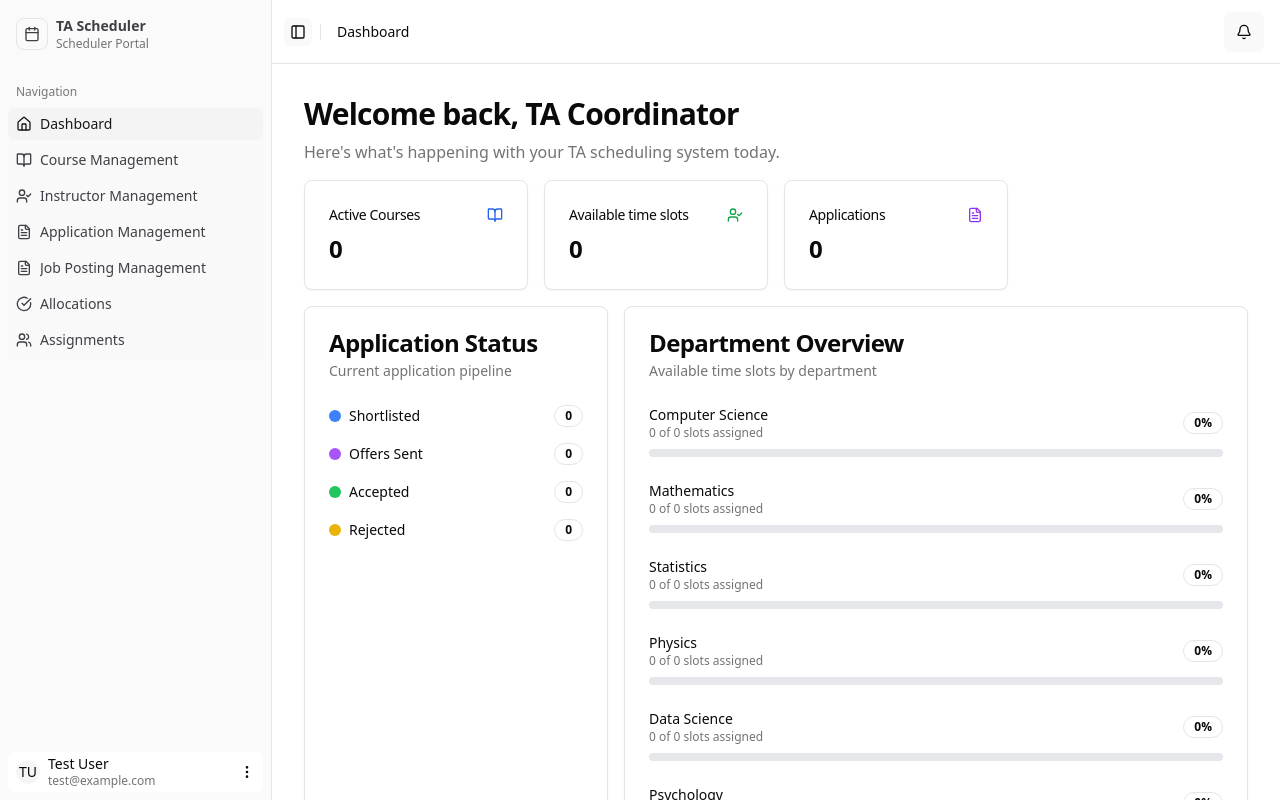
Test case: Logout › logs out scheduler who is currently logged-in and redirects to landing page
The width and height of the screenshot is (1280, 800).
Now we know the button is present and ready.
Click the button with aria-label "account menu": [136, 772] box [8,752,263,792]
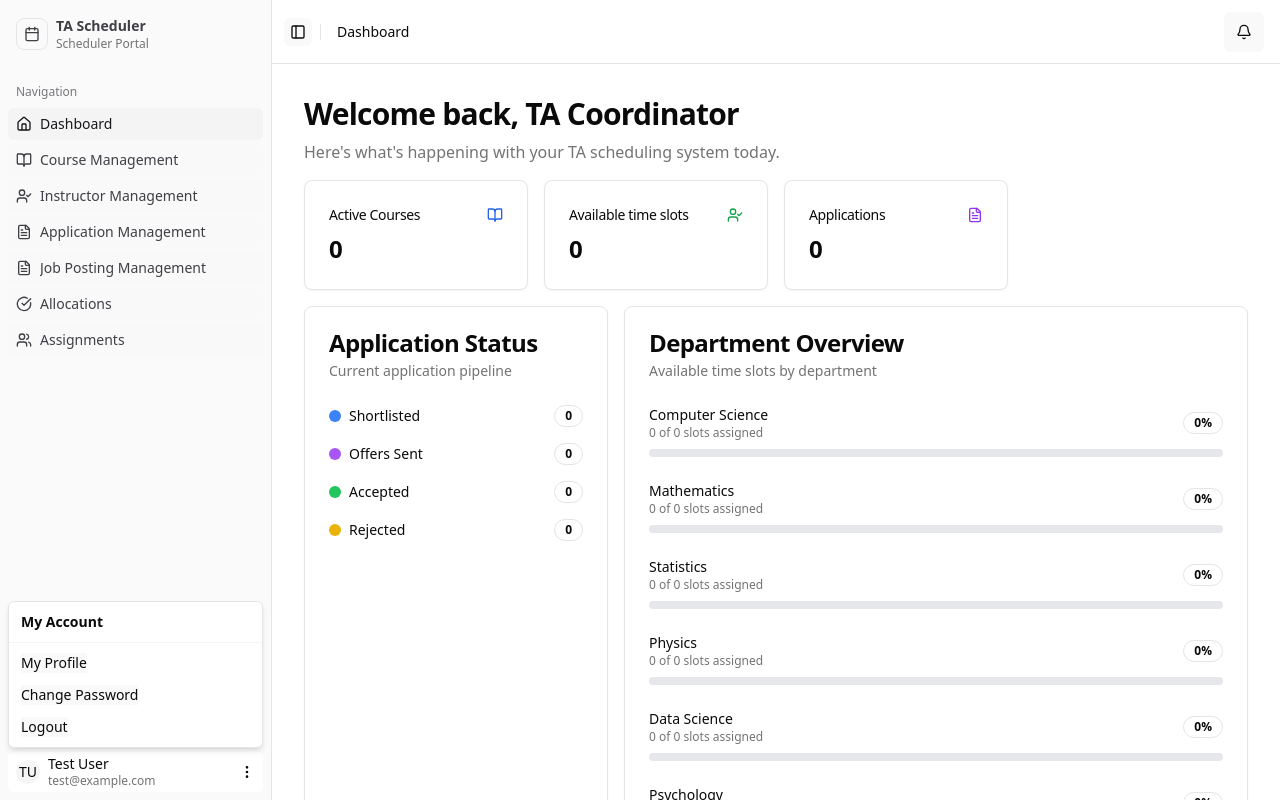
Click the menu item "Logout": [44, 727] box [21,717,68,737]
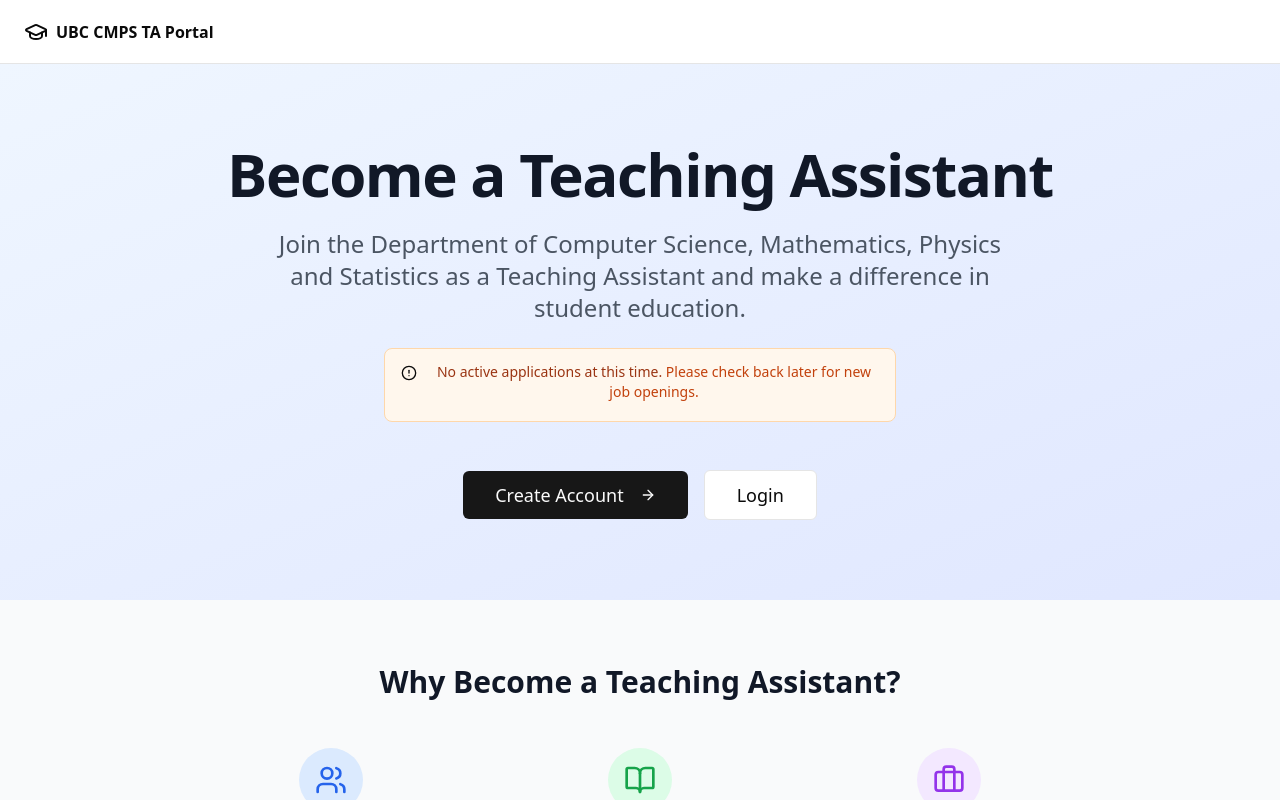
Now the heading "Become a Teaching Assistant" is shown, box [192,144,1088,204]
